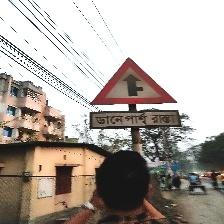Side-road-right: (88, 58, 180, 132)
